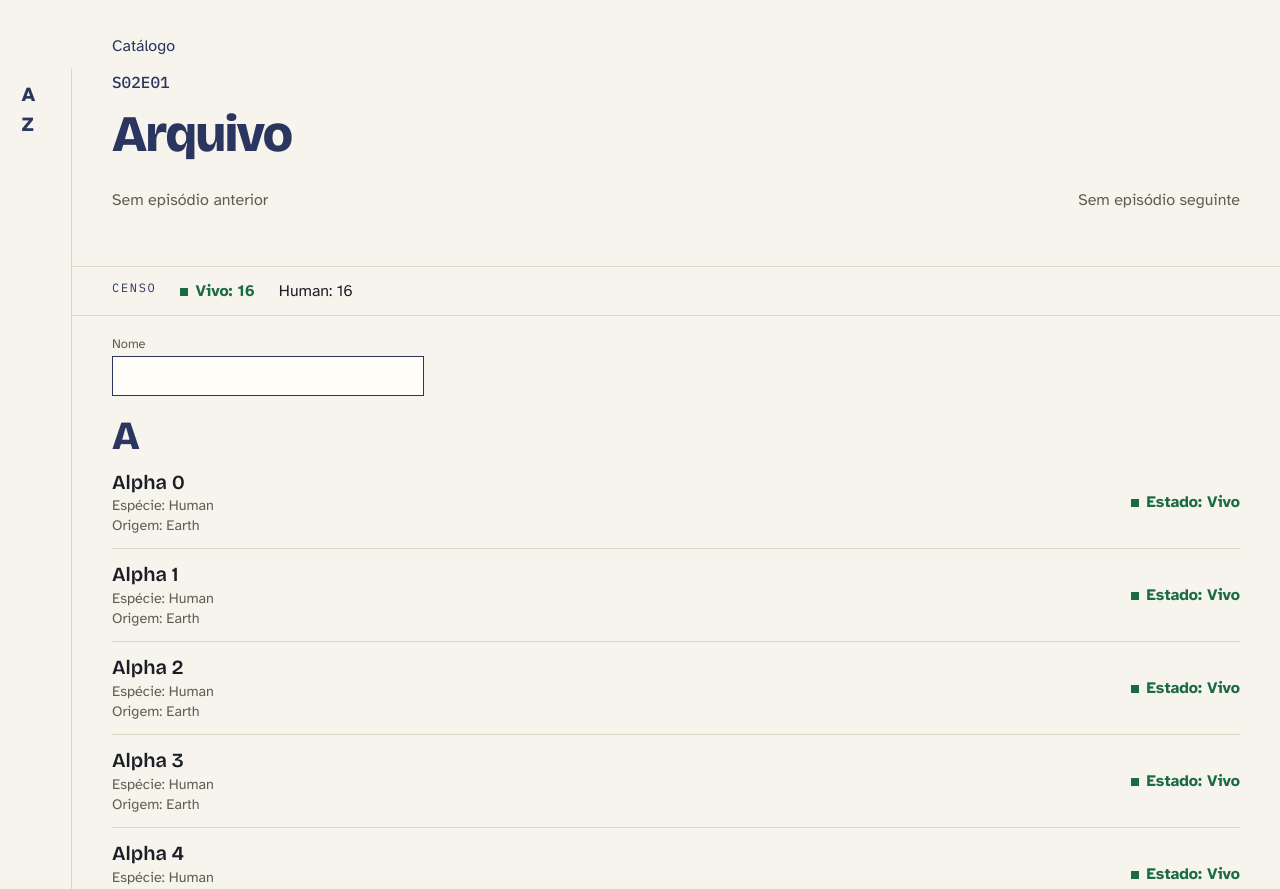
Test: filtra personagens a cada letra
In the field labelled "Nome": (268, 376) [112,356,424,396], type "Zet"
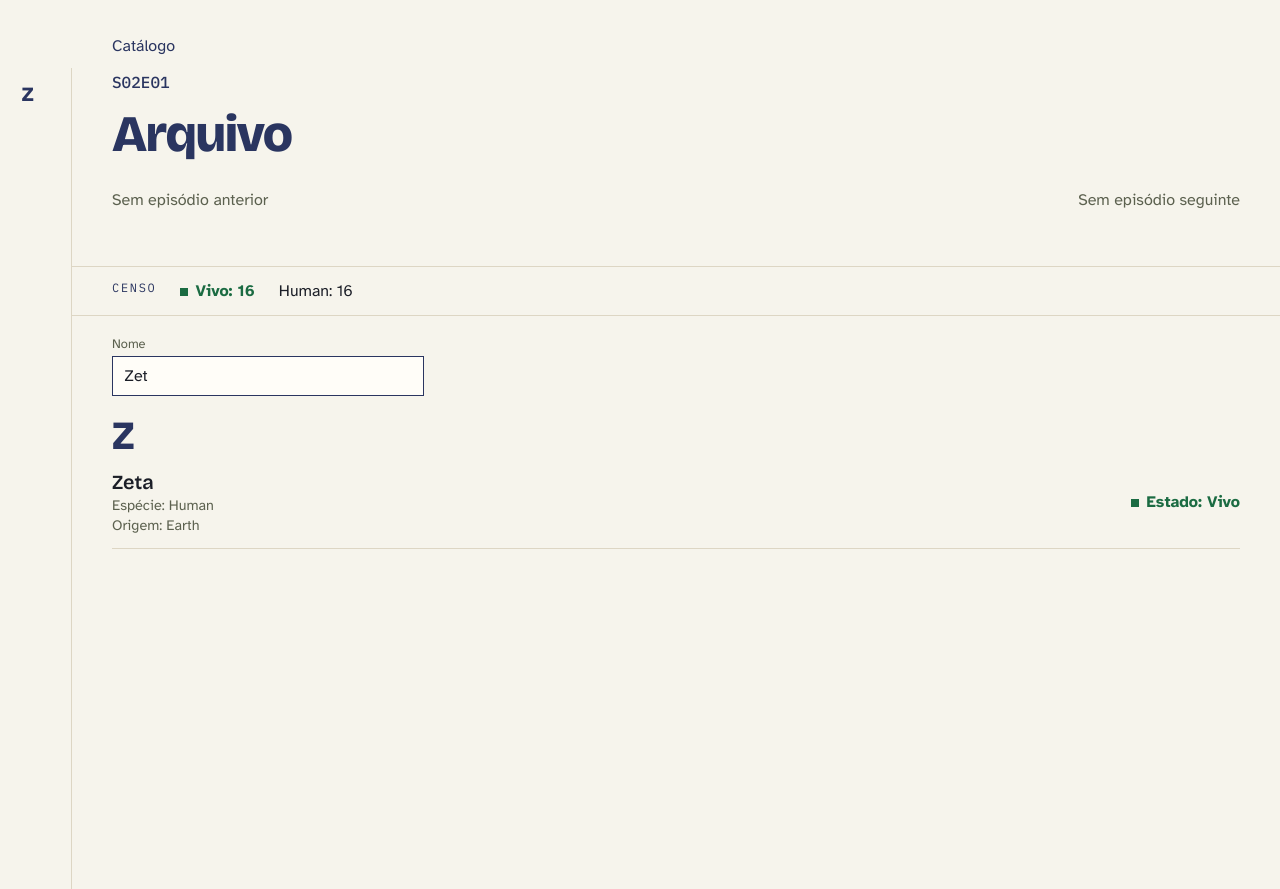
Expected: the link "Zeta Espécie: Human Estado: Vivo Origem: Earth" is shown, [112,456,1240,549]
Expected: the link "Alpha 0" is gone
Replace the text in the field labelled "Nome" with "zzz": (268, 376) [112,356,424,396]
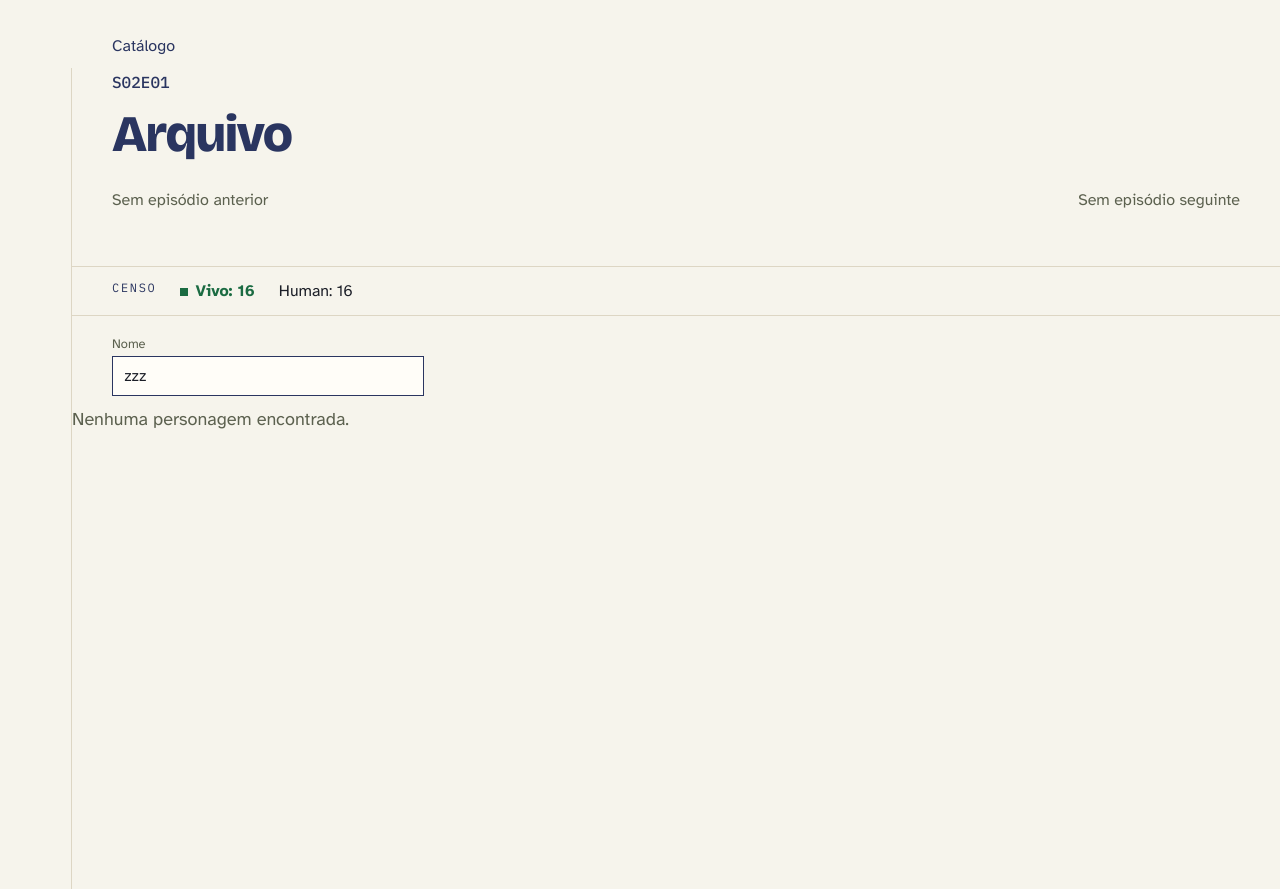
Expected: the text "Nenhuma personagem encontrada." is shown, [72,408,349,430]
